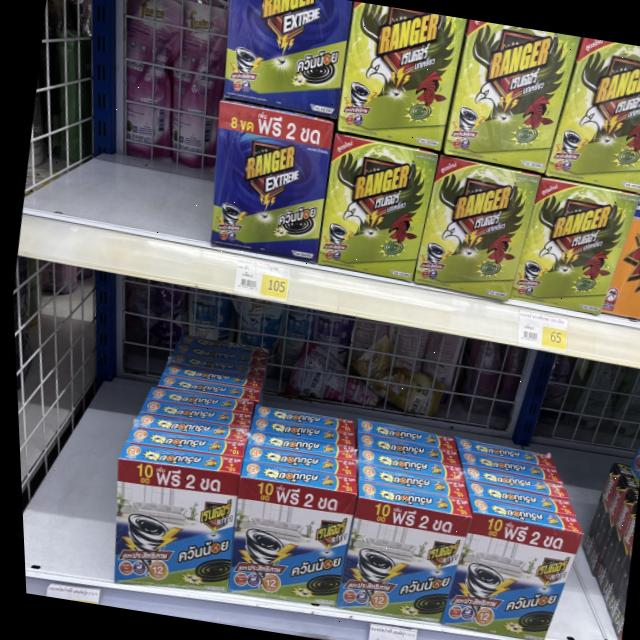empty_shelf: (125, 282, 585, 528), (23, 0, 228, 247), (13, 261, 136, 581)
